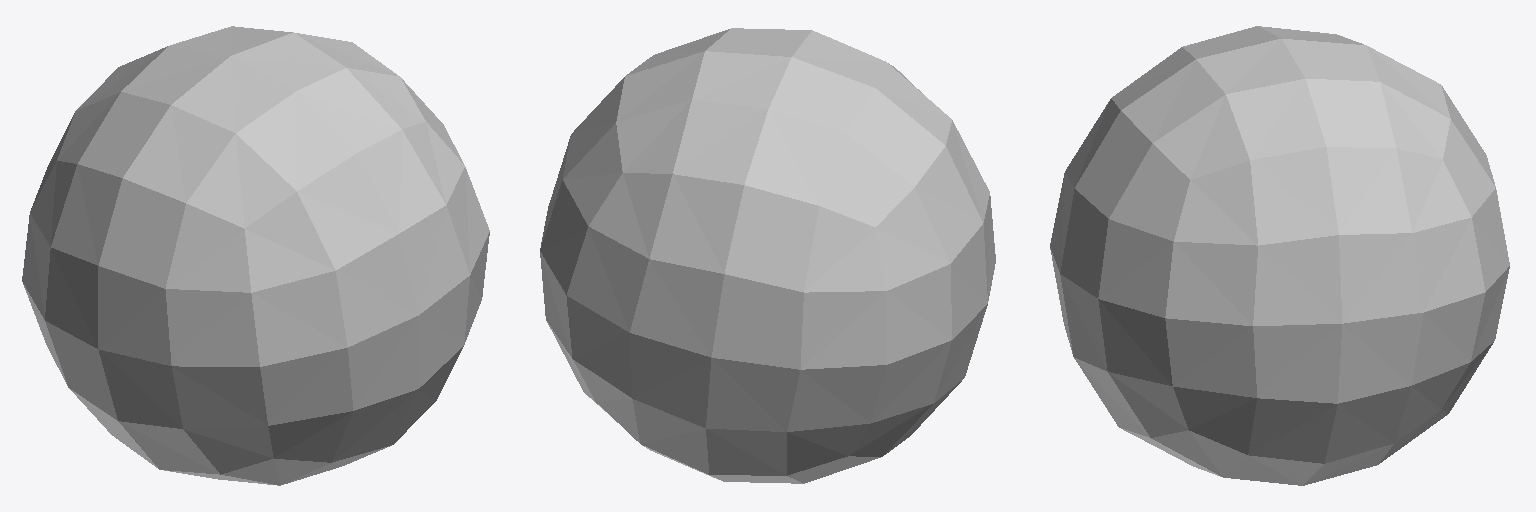
File: lshoulder.obj
3 renders of one model, left to right at view 1: azimuth 30°, elevation 25°; view 2: azimuth 150°, elevation 25°; view 3: azimuth 270°, elevation 25°, orthographic.
Visible parts, largest first — view 1: polySurface8 IronMan:null_111; view 2: polySurface8 IronMan:null_111; view 3: polySurface8 IronMan:null_111.
Part boxes in pixels (x1,y1,x2,y2): polySurface8 IronMan:null_111: (22, 26, 489, 485); polySurface8 IronMan:null_111: (540, 28, 995, 483); polySurface8 IronMan:null_111: (1050, 26, 1509, 485).
Size of the model in its own units: 17.97 by 17.85 by 18.12.